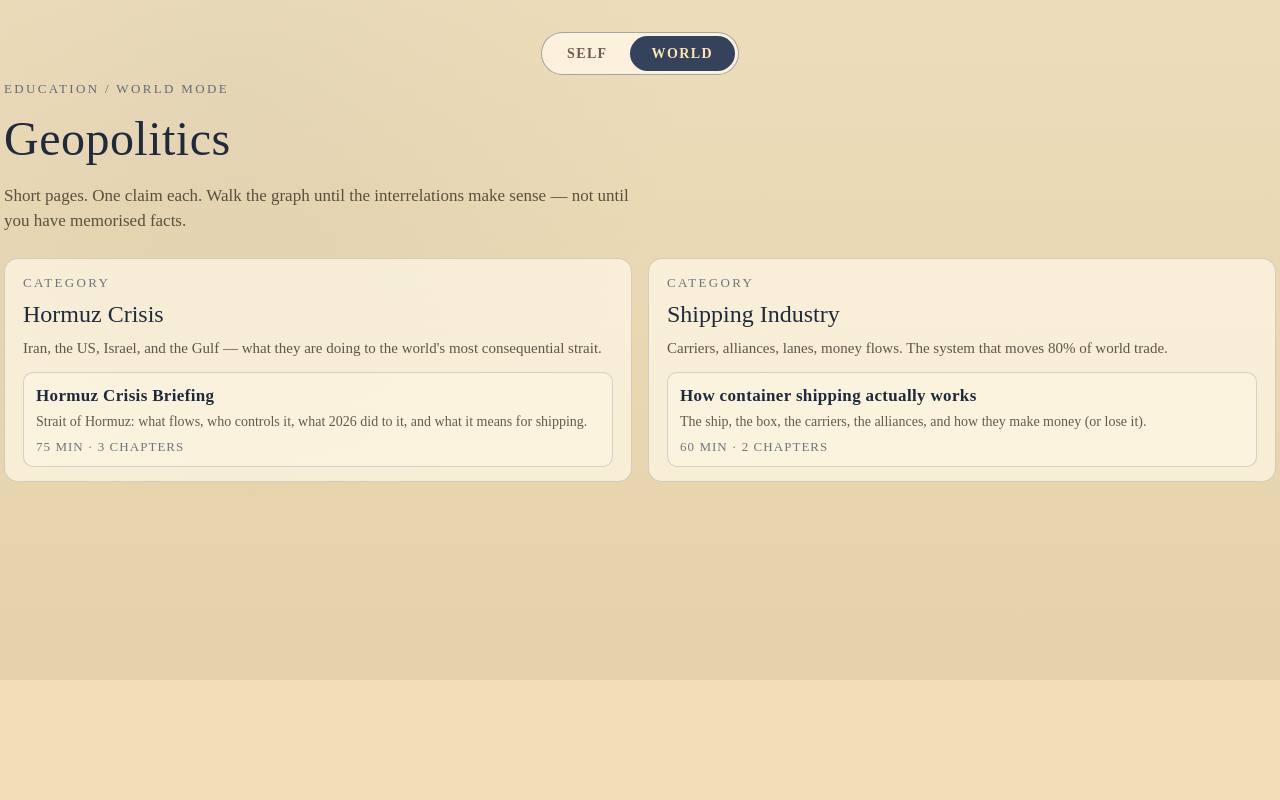
GeopoliticsWorld › uses dependsOn chips as navigation links
Click the button with test id "open-program-hormuz-briefing" at (318, 419), box [23, 372, 613, 467]
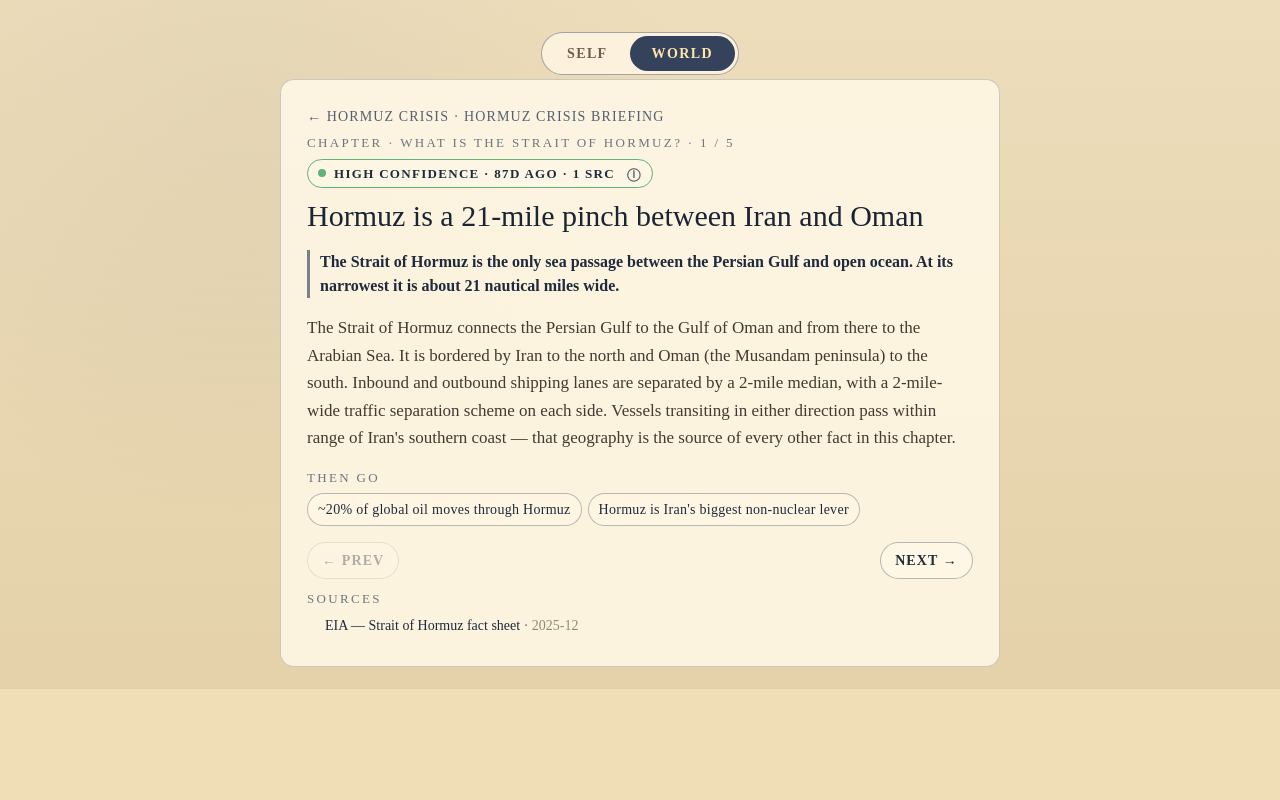
Click the button with test id "next-page" at (927, 561), box [880, 542, 973, 579]
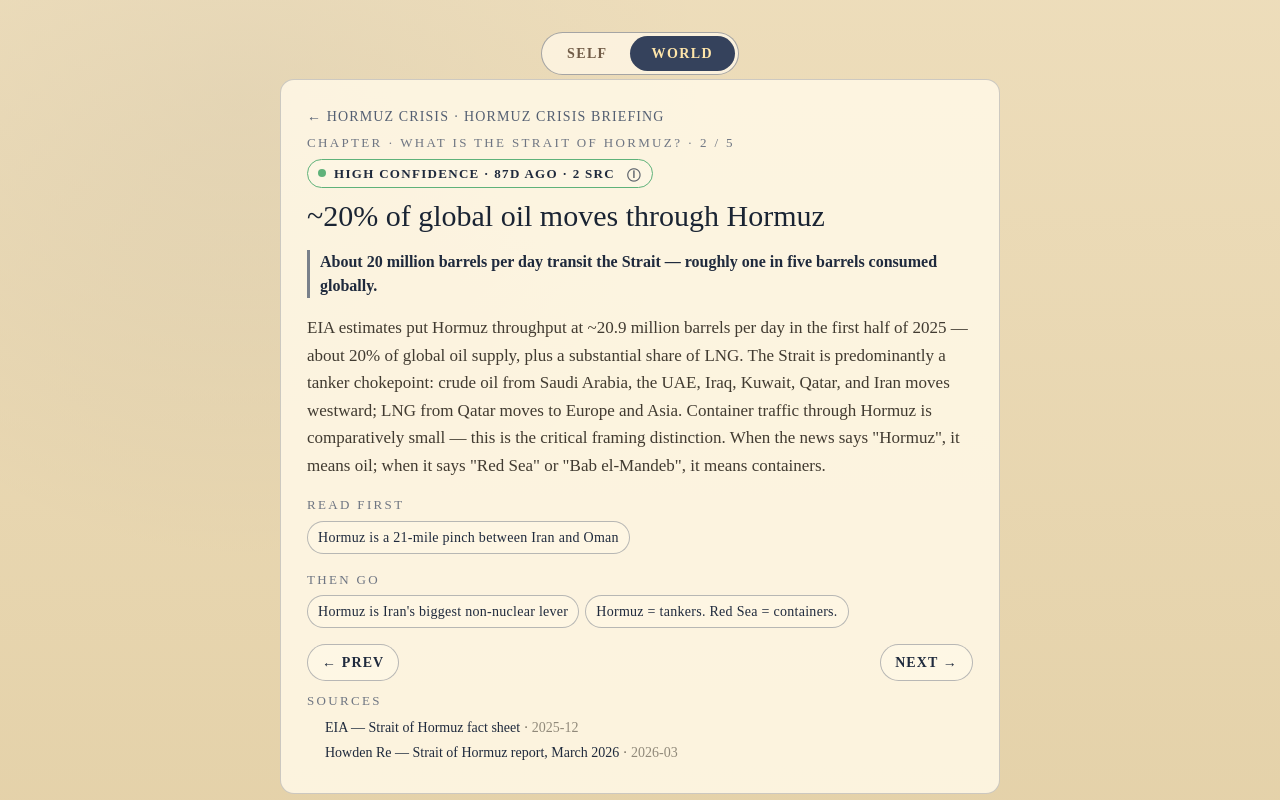
Click the button with test id "next-page" at (927, 663), box [880, 644, 973, 681]
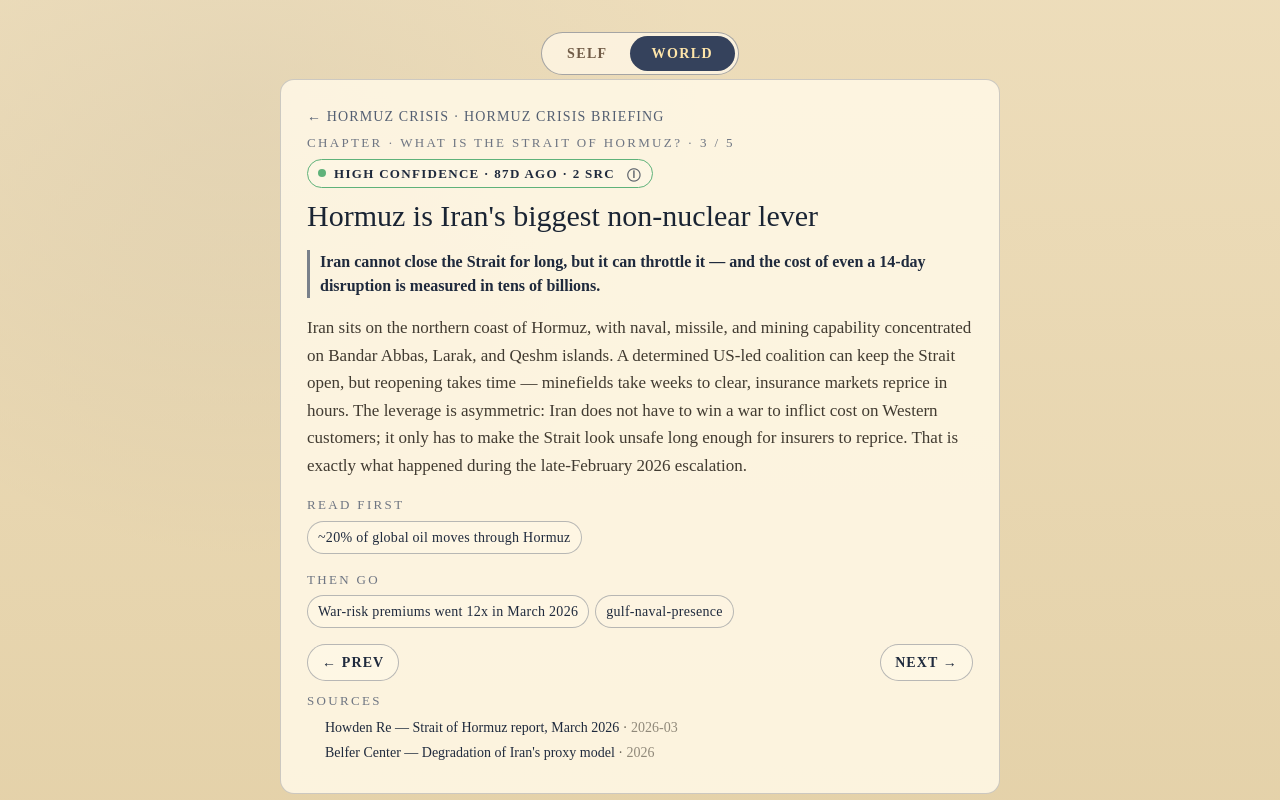
Click the button "~20% of global oil moves through Hormuz" at (444, 537), box [307, 521, 582, 554]
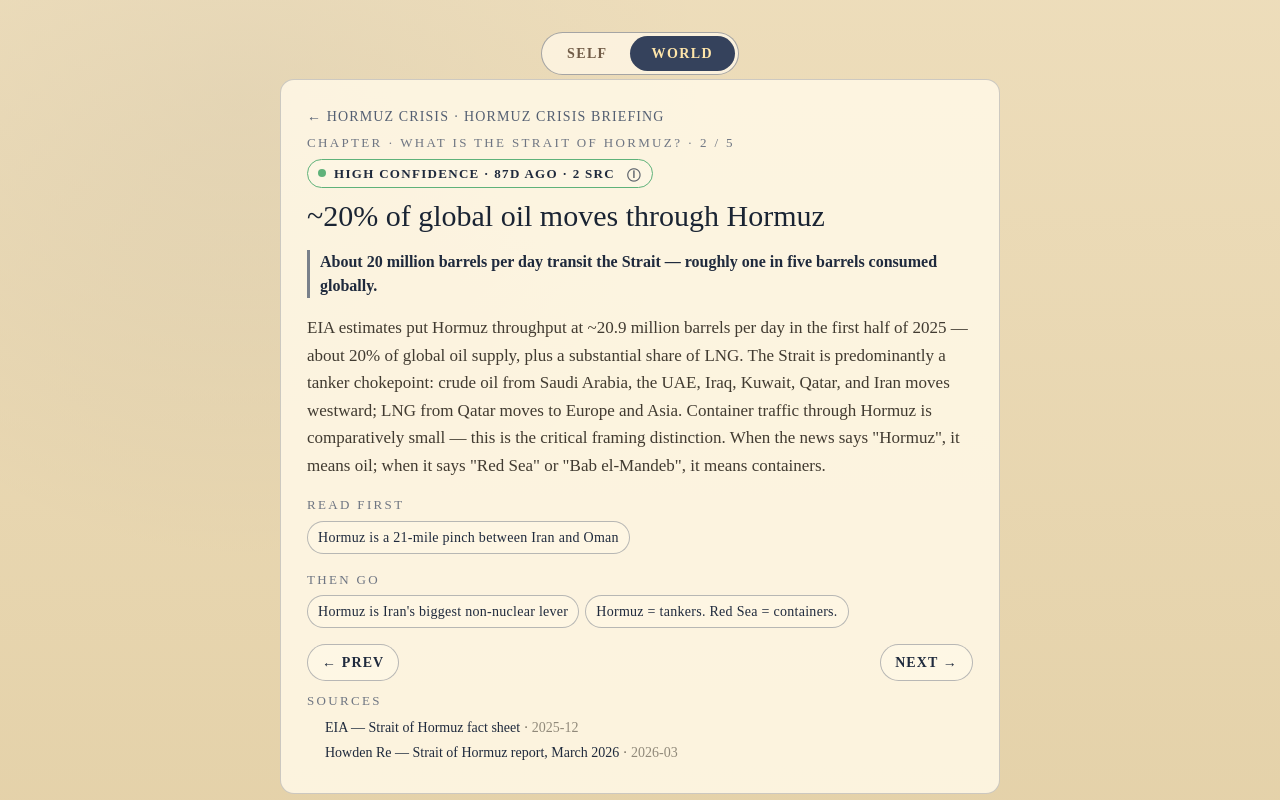
Check: the heading shows "20% of global oil", box [307, 199, 825, 232]
